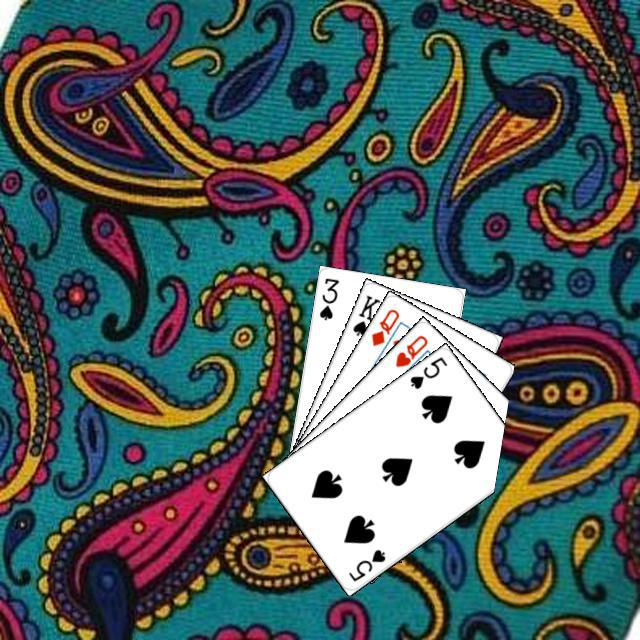3s: (314, 273, 340, 322)
5s: (405, 352, 449, 391), (343, 544, 387, 583)
Ks: (348, 290, 382, 338)
Qd: (366, 304, 401, 348)
Qh: (390, 330, 429, 369)
